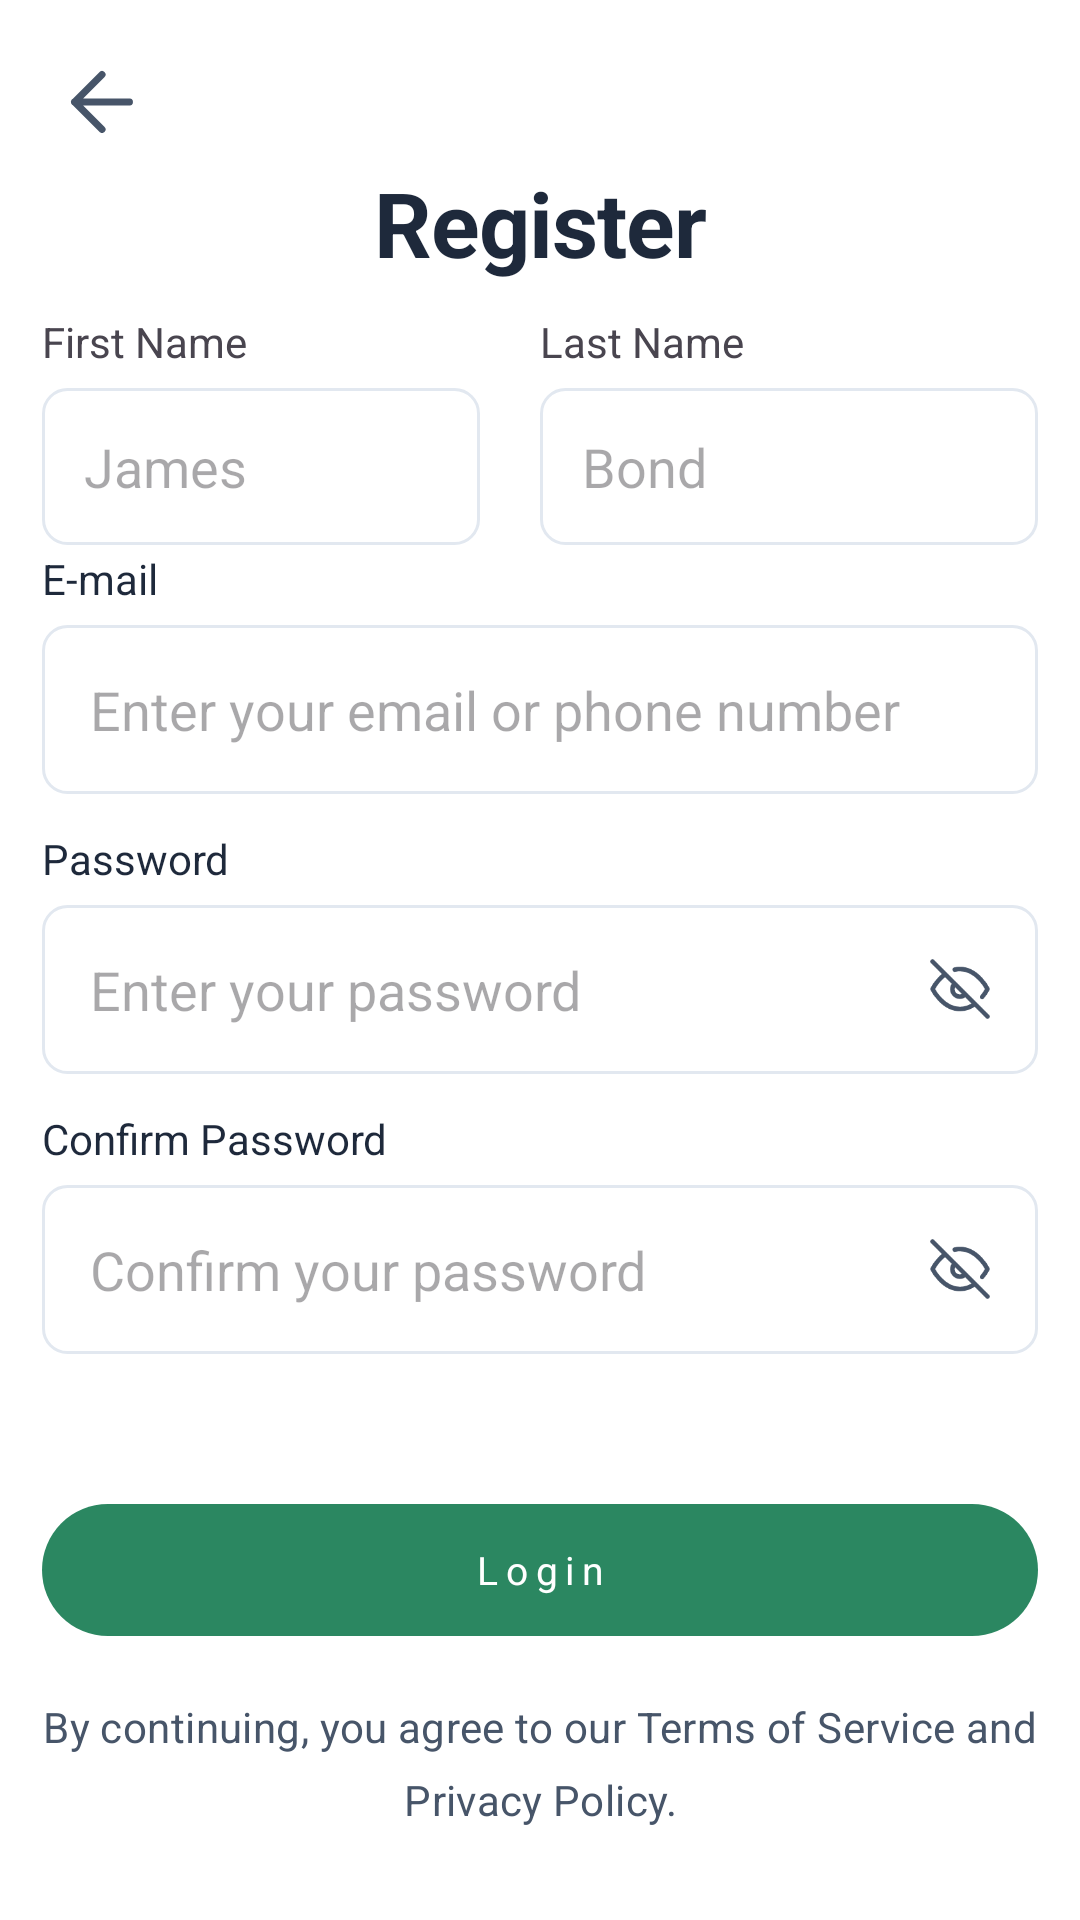

Where to tap for icons on this 1080px×1920px app screen, as (x,y):
arrow left: (102,102)
